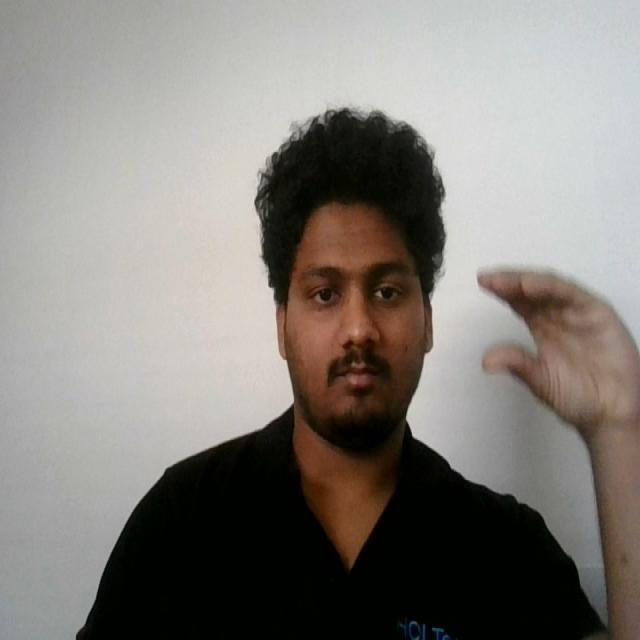No: (461, 257, 640, 460)
